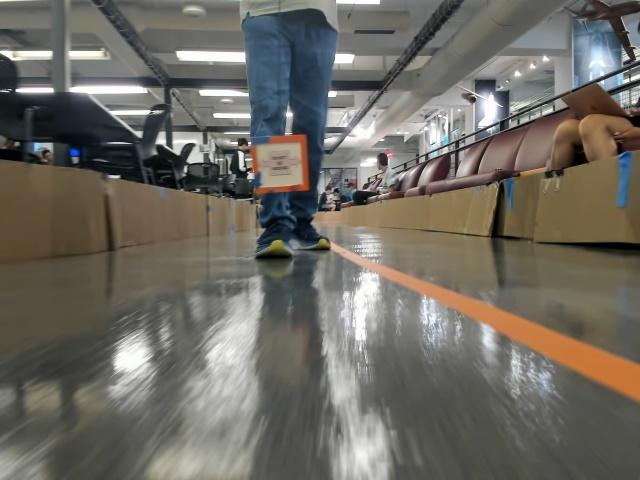Do Not Go Around: (258, 151, 300, 177)
